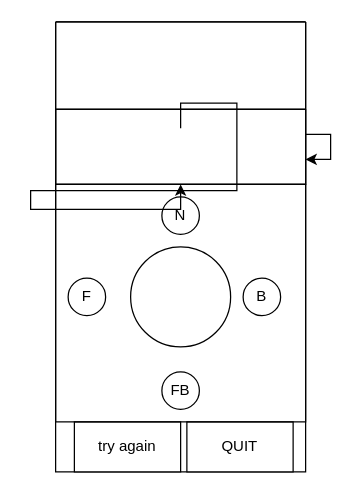
Some shapes in this 363 by 494 pixel diagram are drawn without their labels. Each missing label, with the centre of its shape:
ADS FOR MONEY: (x=180, y=65)
number: (x=180, y=296)
Stats: (x=180, y=146)
